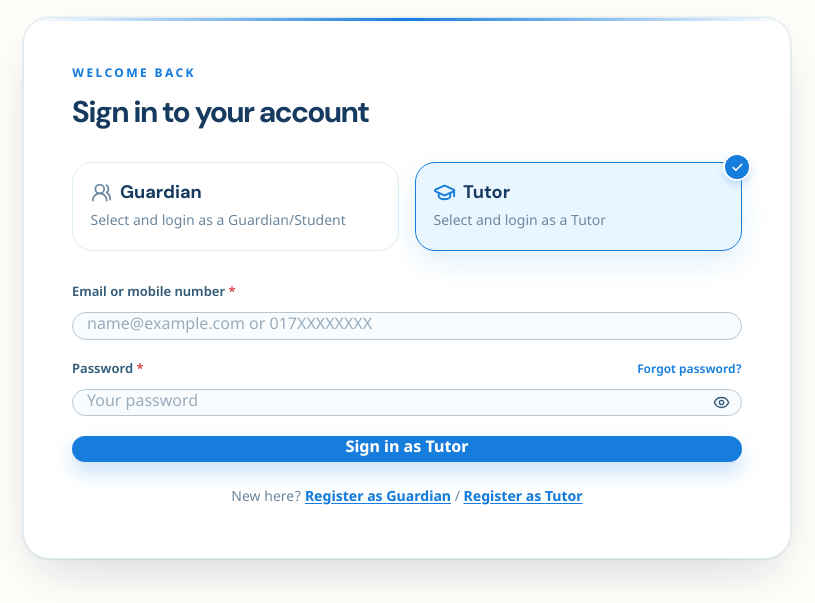
Scenario: post-login destinations › shows an accessible Tutor workspace transition while the secure post-login hand-off is pending
In the field labelled "Email or mobile number *": [407, 326] box [72,312,742,340], type "tutor@example.com"
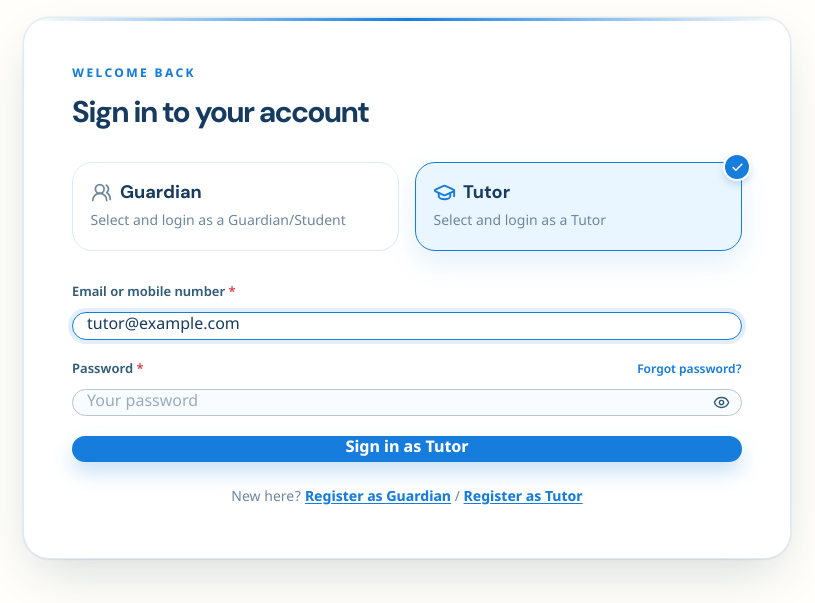
In the password field labelled "Password *": [407, 402] box [72,388,742,416], type "correct-password"
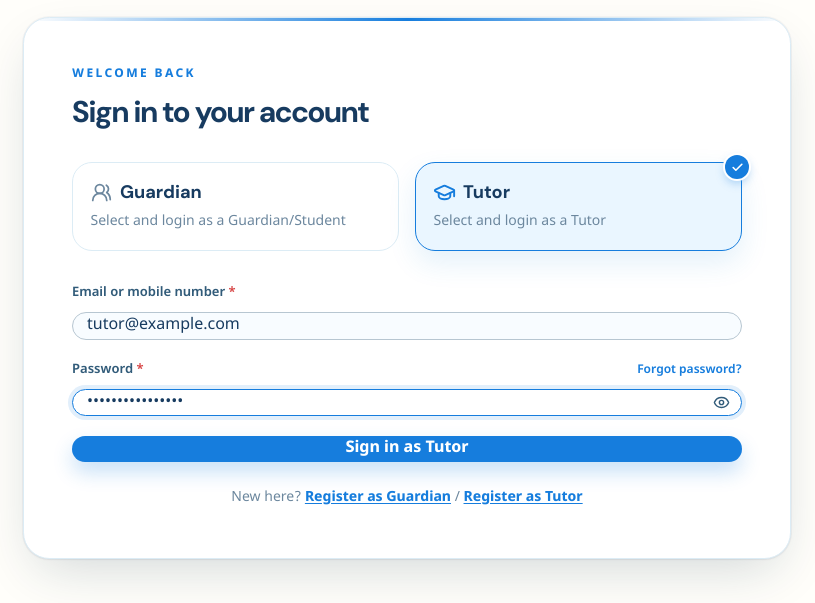
Click the button "Sign in as Tutor": [407, 449] box [72,436,742,462]
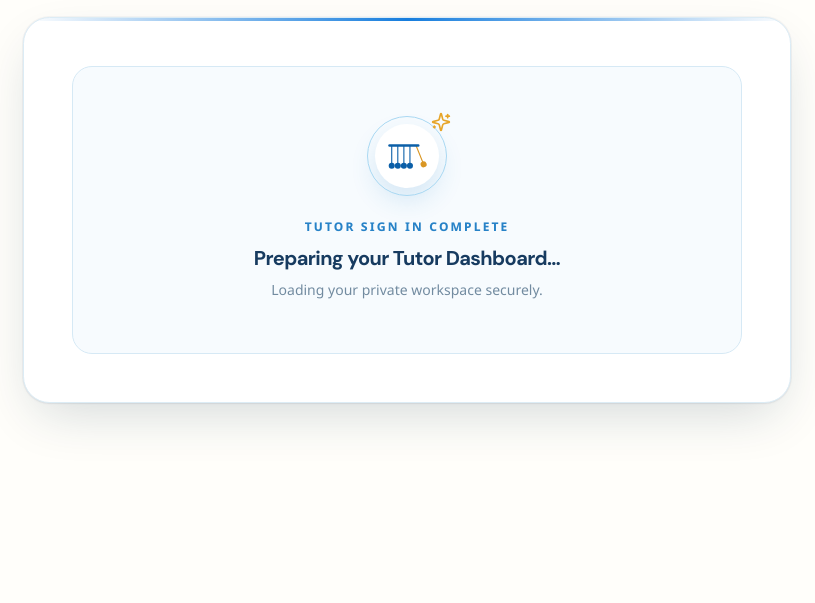
expect the message named "Preparing your Tutor workspace" is shown: met, box [72,66,742,354]
expect the heading "Preparing your Tutor Dashboard…" is shown: met, box [254,244,560,272]
expect the text "Loading your private workspace securely." is shown: met, box [271,280,543,304]
